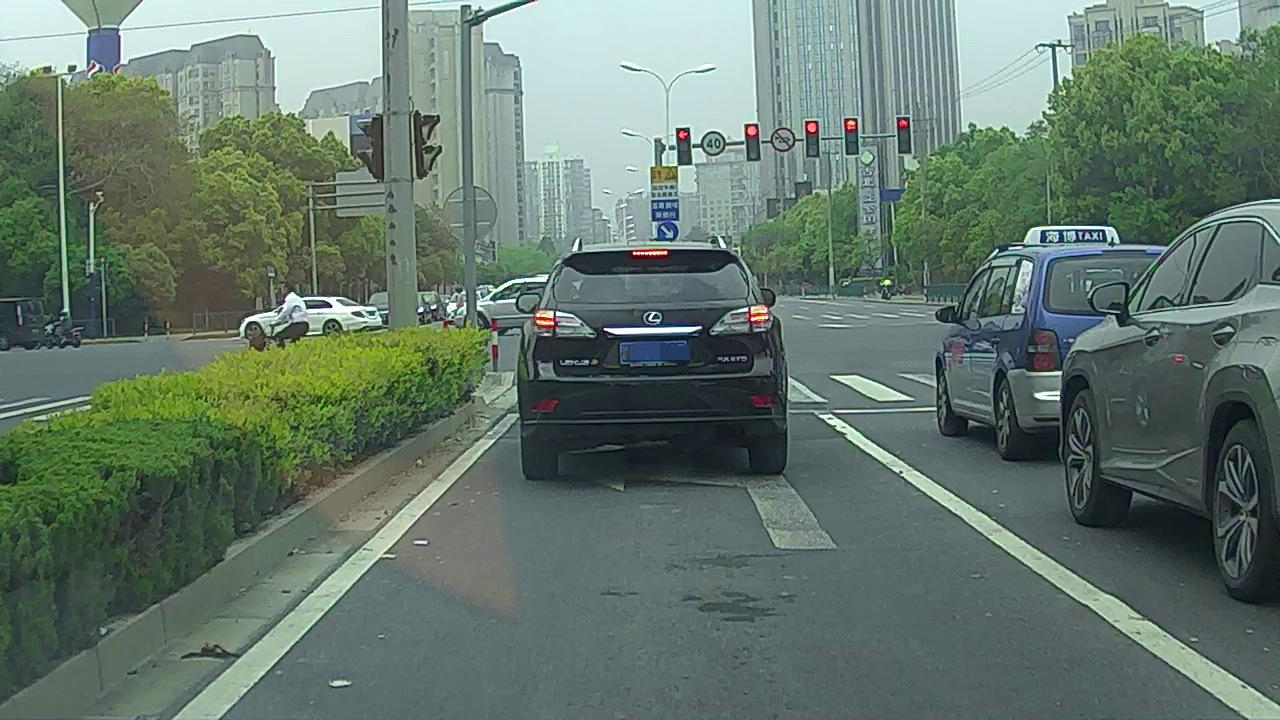traffic_light: (896, 115, 913, 154), (843, 117, 858, 156), (745, 124, 761, 160), (677, 128, 692, 165), (805, 118, 819, 156)
